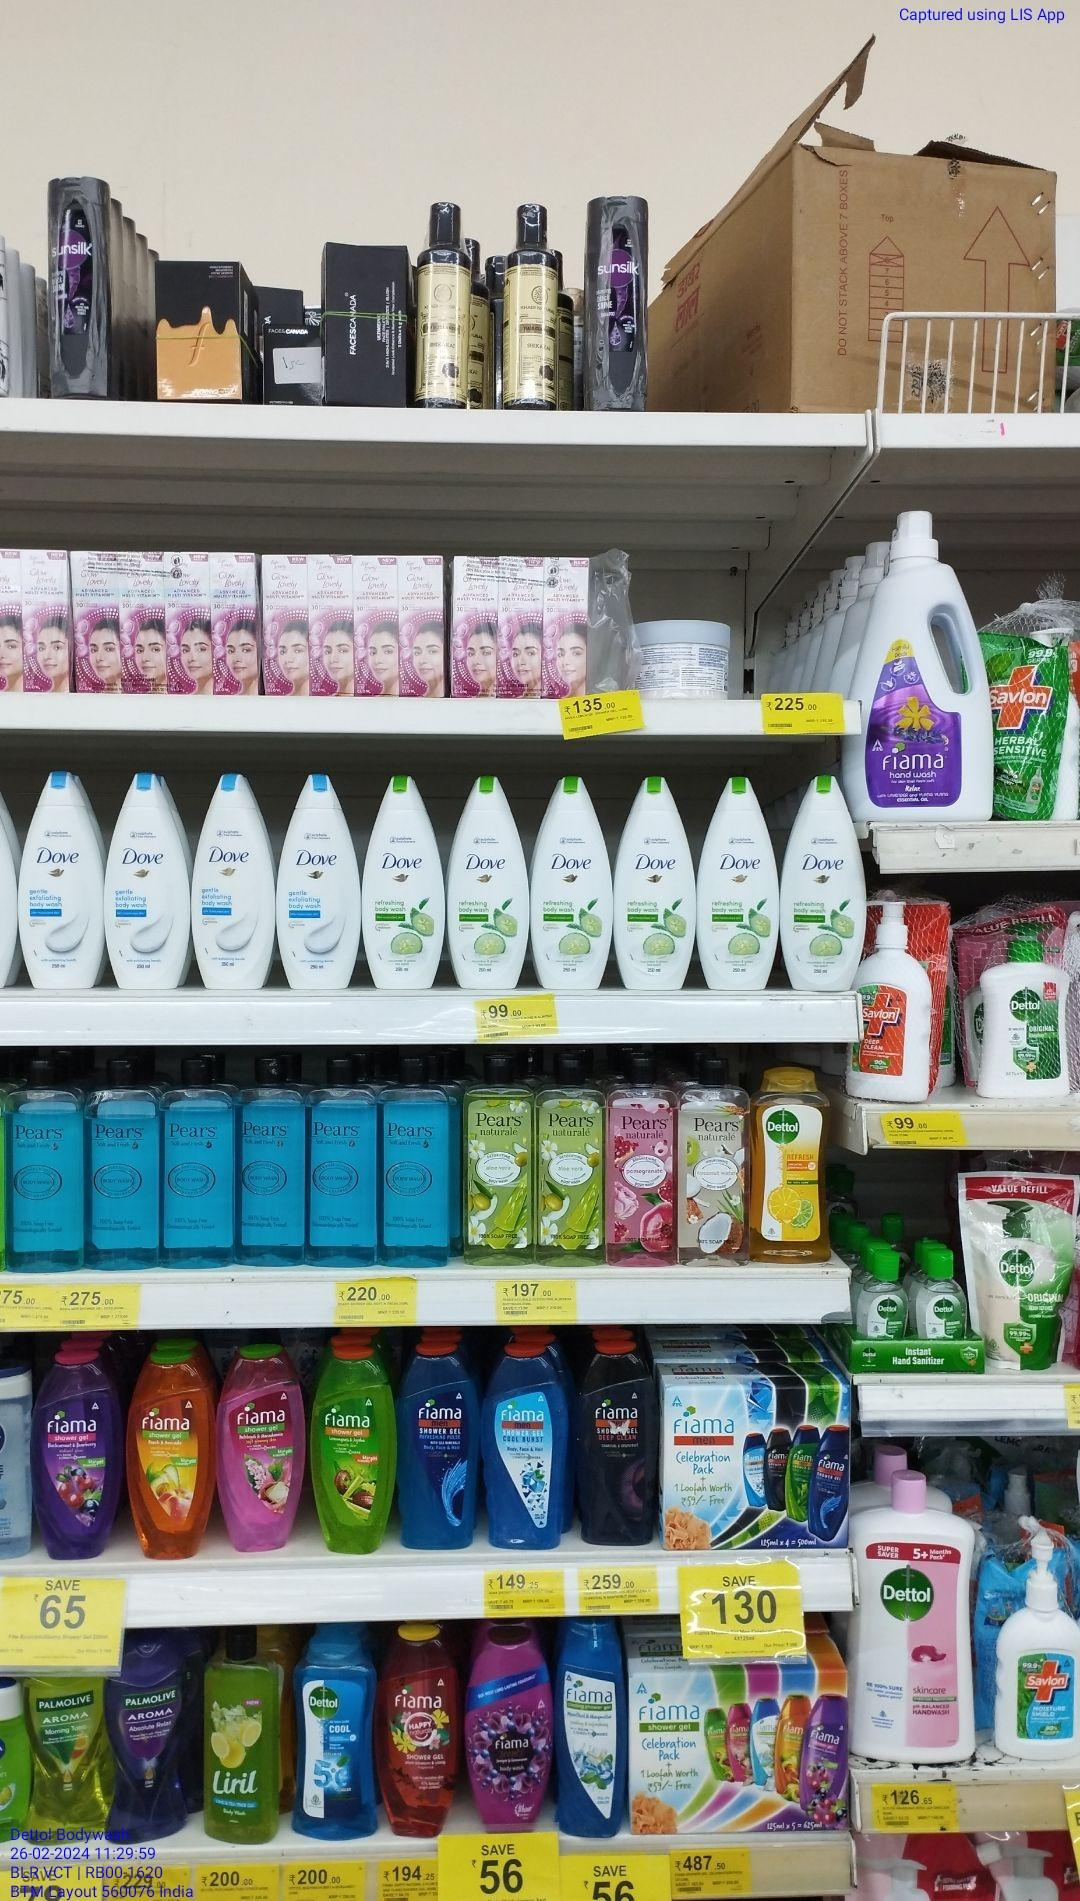Dettol_Bodywash_Cool: (295, 1636, 379, 1841)
Dettol_Bodywash_Refresh: (747, 1067, 837, 1265)
Dove_Gentle_Exfoliating_Body_Wash_250ML: (17, 768, 103, 990), (106, 768, 191, 992), (191, 777, 276, 990), (279, 772, 360, 988)
Dove_Refreshing_Body_Wash_250ML: (781, 772, 868, 996), (526, 769, 612, 987), (697, 769, 780, 995), (612, 769, 696, 991), (363, 766, 445, 991), (447, 769, 528, 990)
Fiama_Shower_Gel_Lemongrass_and_Jojoba_250ML: (308, 1338, 397, 1555)
Fiama_Shower_Gel_Patchouli_and_Macadamia_250ML: (219, 1342, 310, 1551)
Fiama_Shower_Gel_Peach_and_Avocado_250ML: (125, 1346, 212, 1559)
Pears_Pure_Glycerin_and_Mint_Extracts_Body_Wash_250ML: (13, 1061, 86, 1276), (165, 1061, 240, 1268), (381, 1059, 452, 1268), (89, 1064, 161, 1269), (306, 1065, 377, 1268), (240, 1064, 304, 1265)
